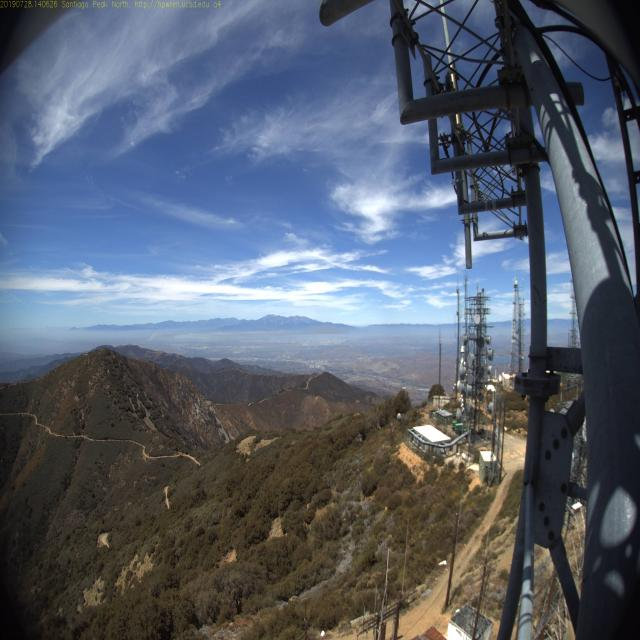smoke: (138, 317, 162, 345)
